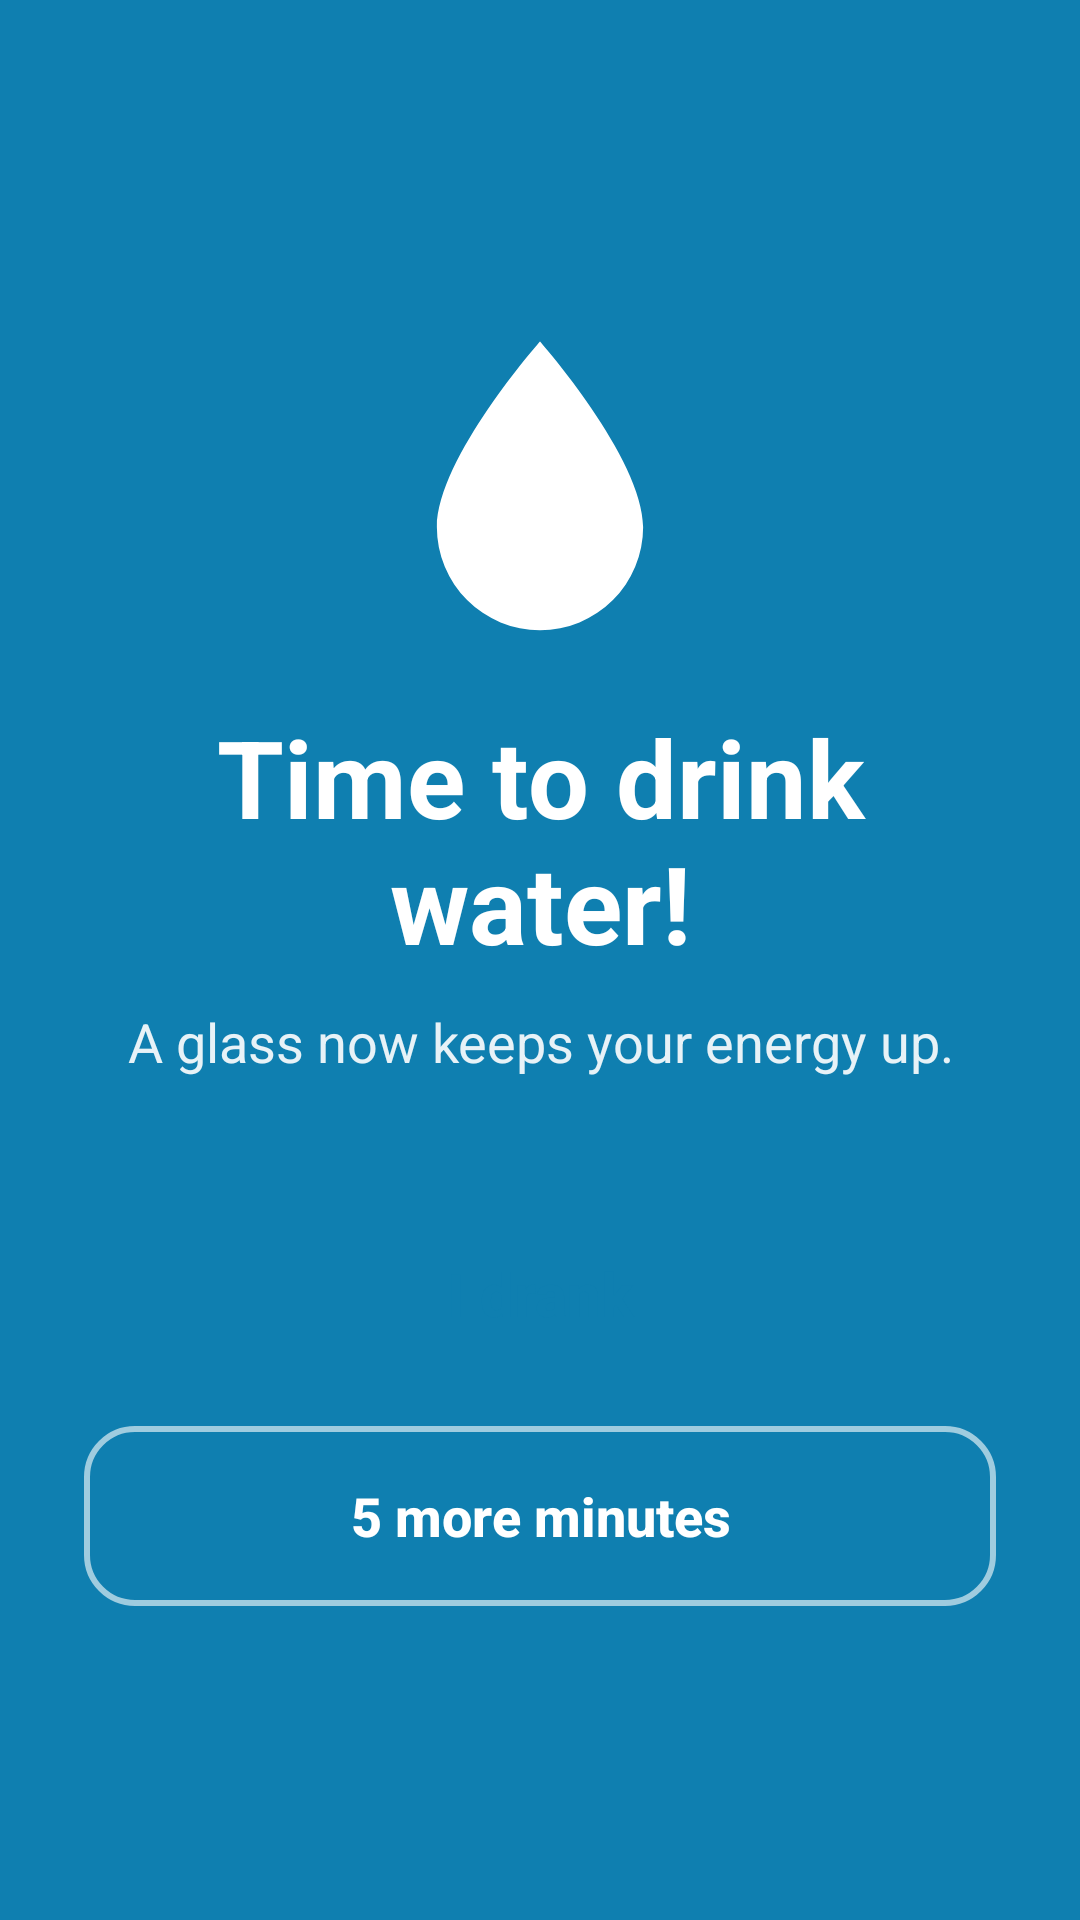

Icon bounding boxes for this 1080×1920 phone screenshot, format (x1, y1, x2, y2):
drop: (436, 341, 643, 631)
